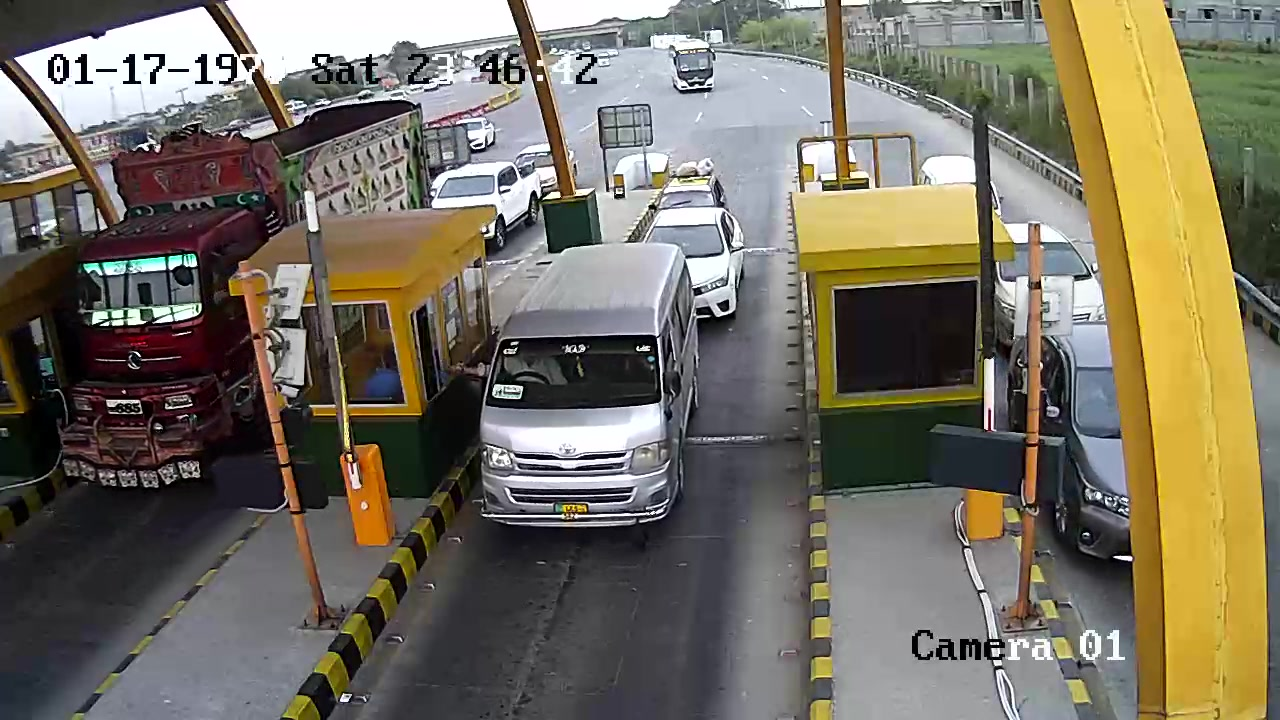F3: (464, 236, 702, 542)
